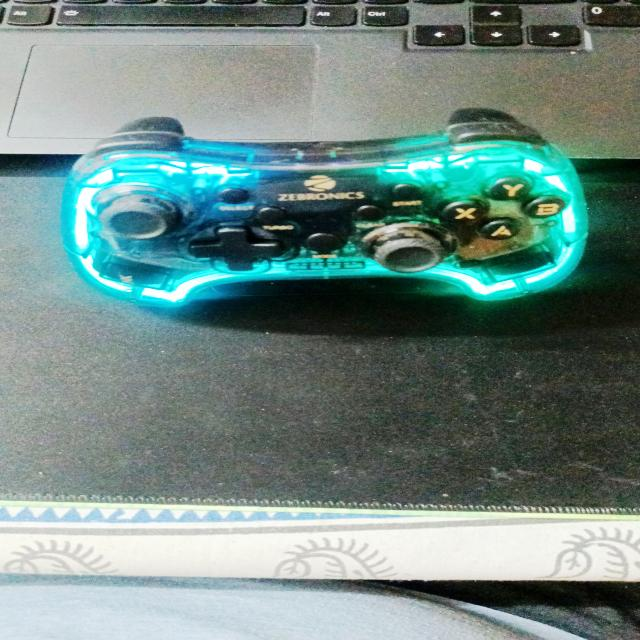gamepad: (59, 107, 590, 308)
